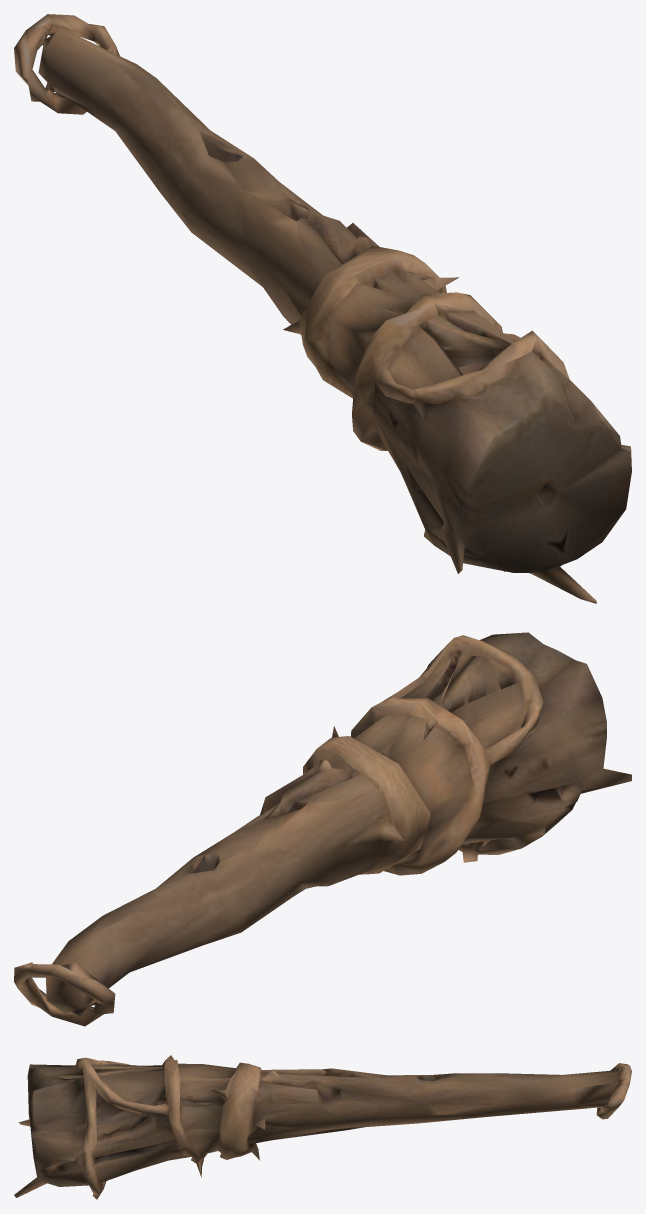
The model's file is bat.glb.
3 renders of one model, top to bottom at view 1: azimuth 30°, elevation 25°; view 2: azimuth 150°, elevation 25°; view 3: azimuth 270°, elevation 25°, orthographic. The views are drawn at different scales.
Visible parts, largest first — view 1: Mesh_0; view 2: Mesh_0; view 3: Mesh_0.
Part boxes in pixels (x1,y1,x2,y2): Mesh_0: (14,14,631,603); Mesh_0: (14,632,631,1026); Mesh_0: (14,1055,631,1199).
Bounding box in the file's own units: 0.2104 × 0.2488 × 1.
Materials: 1 (1 with a texture image).
